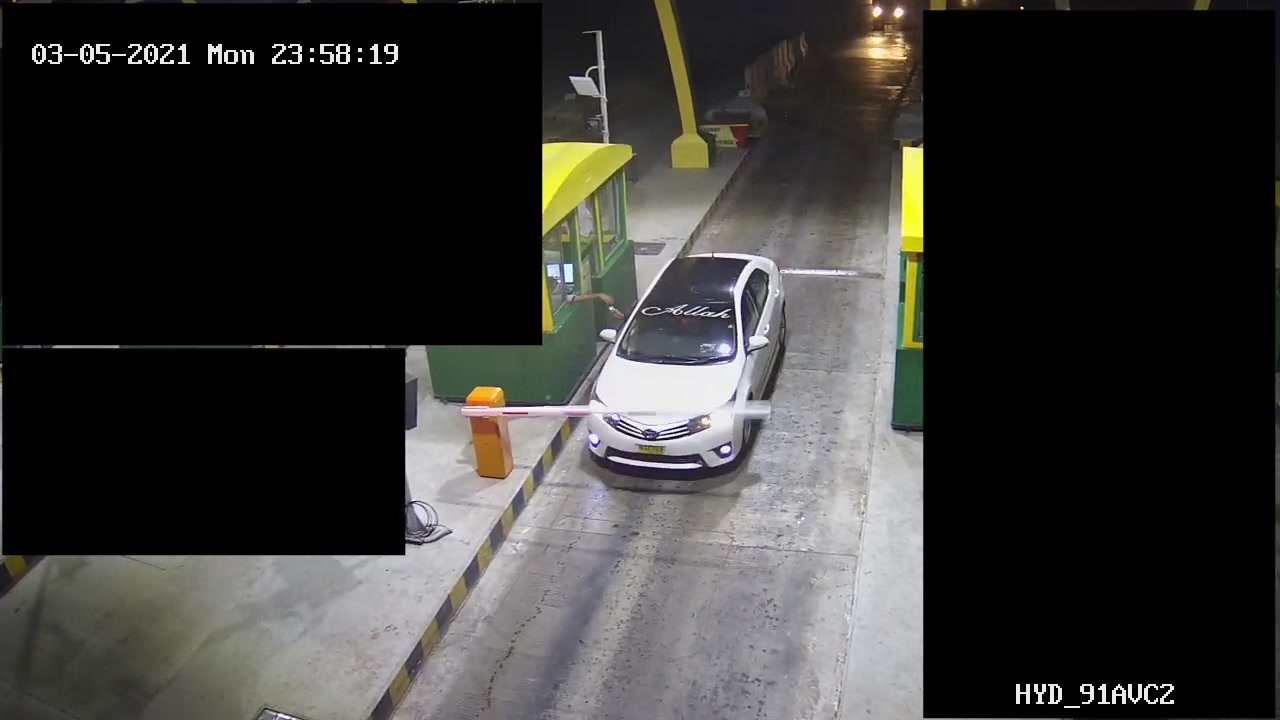F1: (573, 245, 788, 483)
